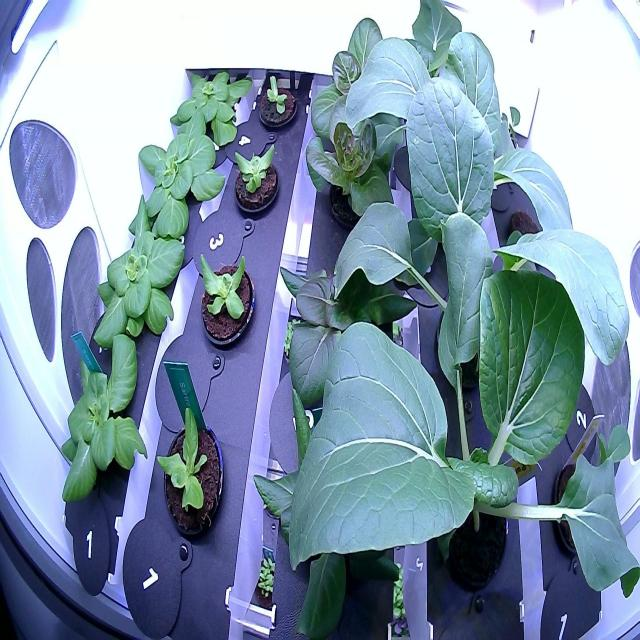young: (270, 210, 427, 420), (291, 77, 420, 239), (52, 323, 152, 508), (111, 102, 230, 251), (91, 188, 189, 362), (296, 6, 416, 139), (150, 394, 233, 553), (163, 52, 255, 169), (193, 241, 267, 356), (227, 132, 290, 220), (255, 58, 303, 133)
